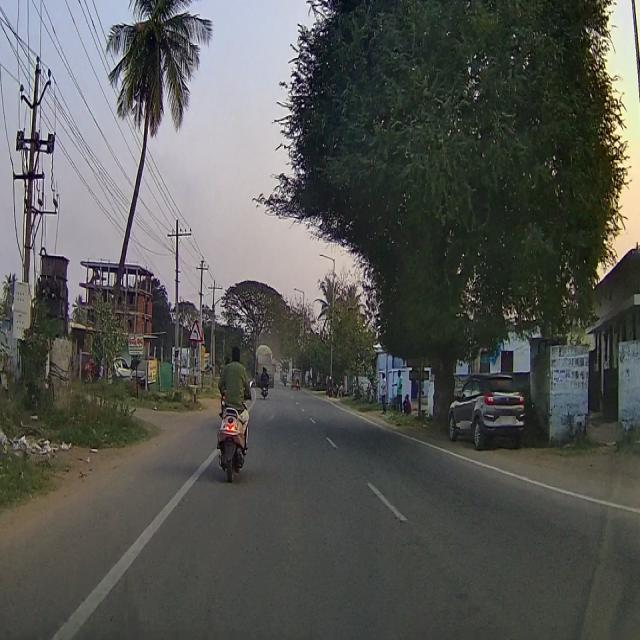left-hand-curve: (189, 318, 202, 346)
